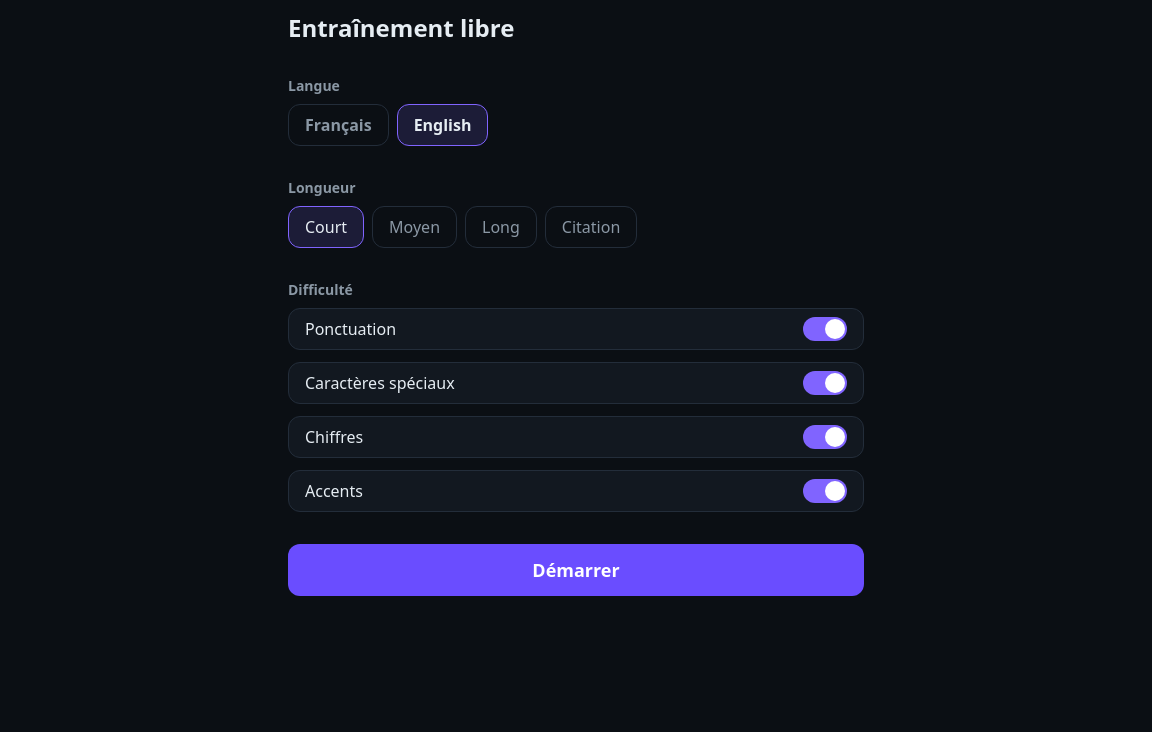
Test case: PlayPage › affiche le setup puis démarre une run
expect the text "Ponctuation" is shown: met, box [305,317,396,341]
What coordinates should you click on to do the following:
click the button "Démarrer"
I would click on:
 (576, 570)
Its box is [288,544,864,596].
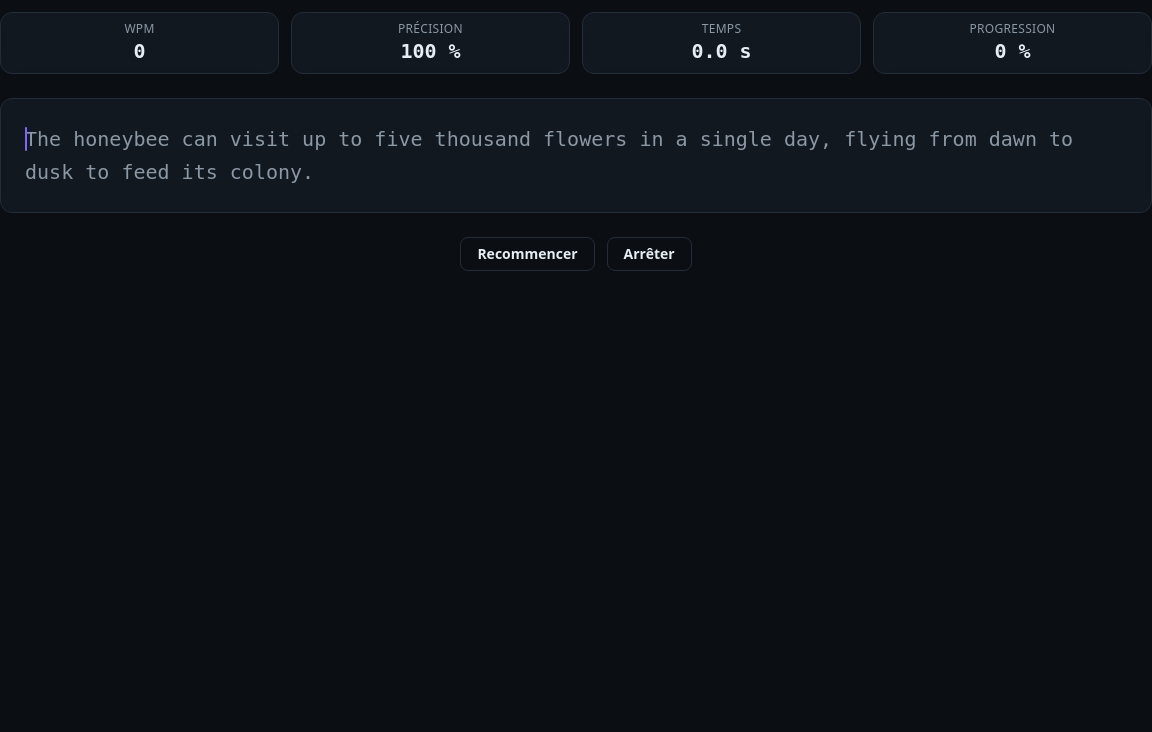
expect the element with test id "typing-area" is shown: met, box [0,98,1151,213]
